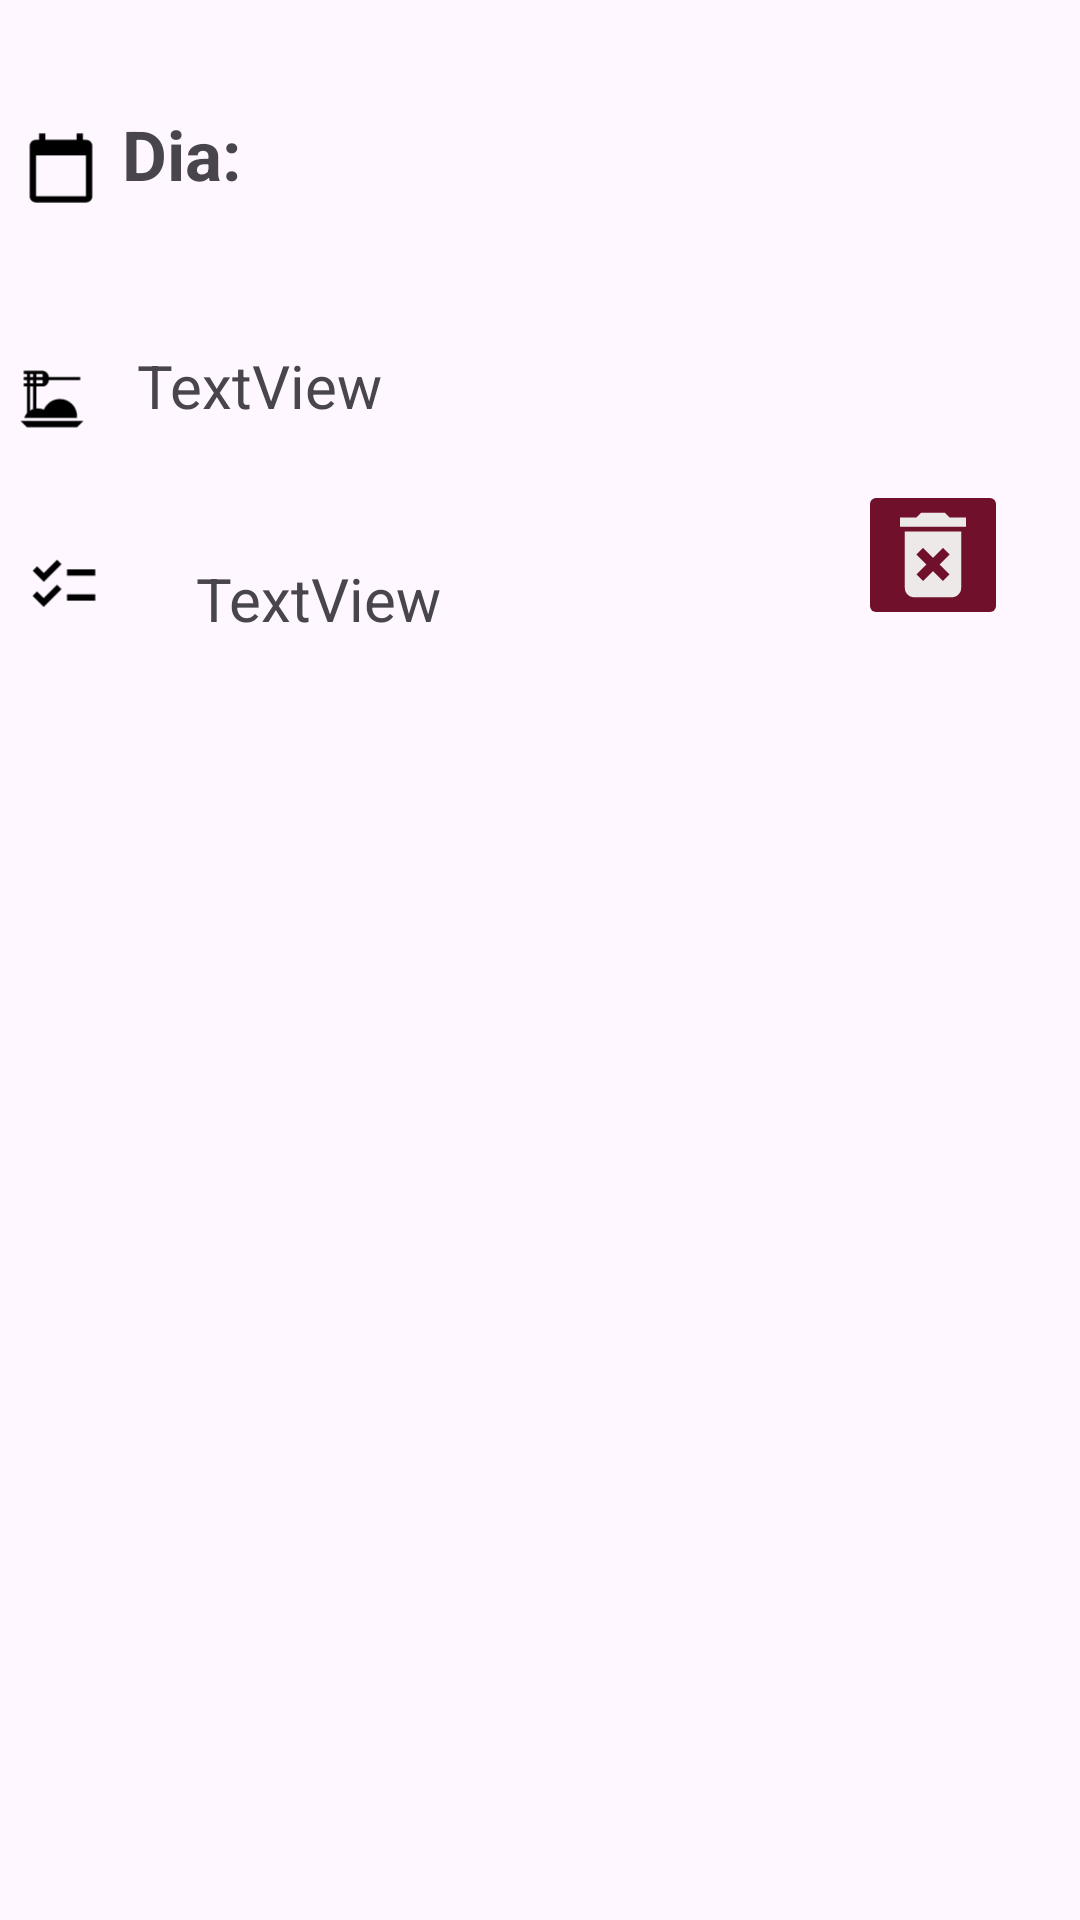

Locate icon controls on the screen. Image size 1080*1920, boxes as {"left": x1, "top": y1, "right": x2, "bottom": y2}.
calendar: {"left": 29, "top": 133, "right": 93, "bottom": 203}
dinner: {"left": 20, "top": 370, "right": 84, "bottom": 428}
eliminar: {"left": 870, "top": 498, "right": 996, "bottom": 612}
opcion: {"left": 32, "top": 559, "right": 96, "bottom": 607}
